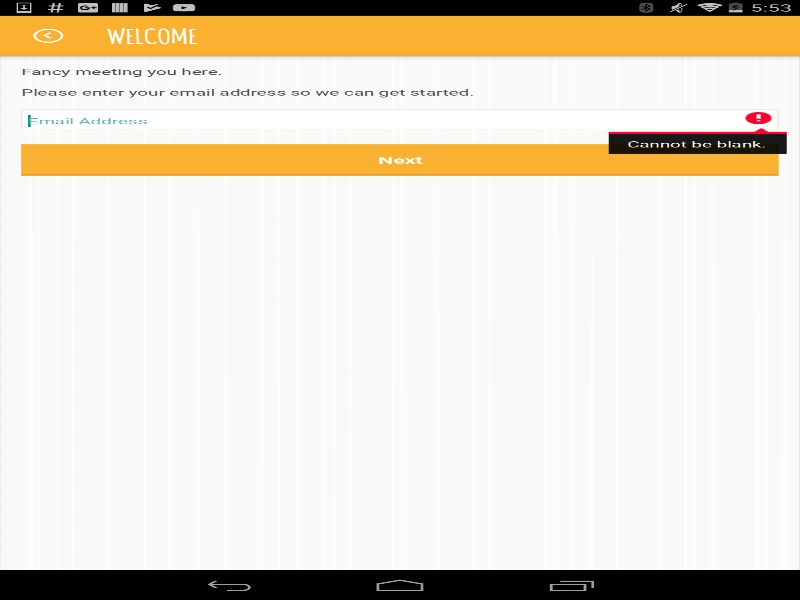Button: (21, 144, 778, 175), (10, 15, 85, 55)
Input: (21, 109, 778, 129)
